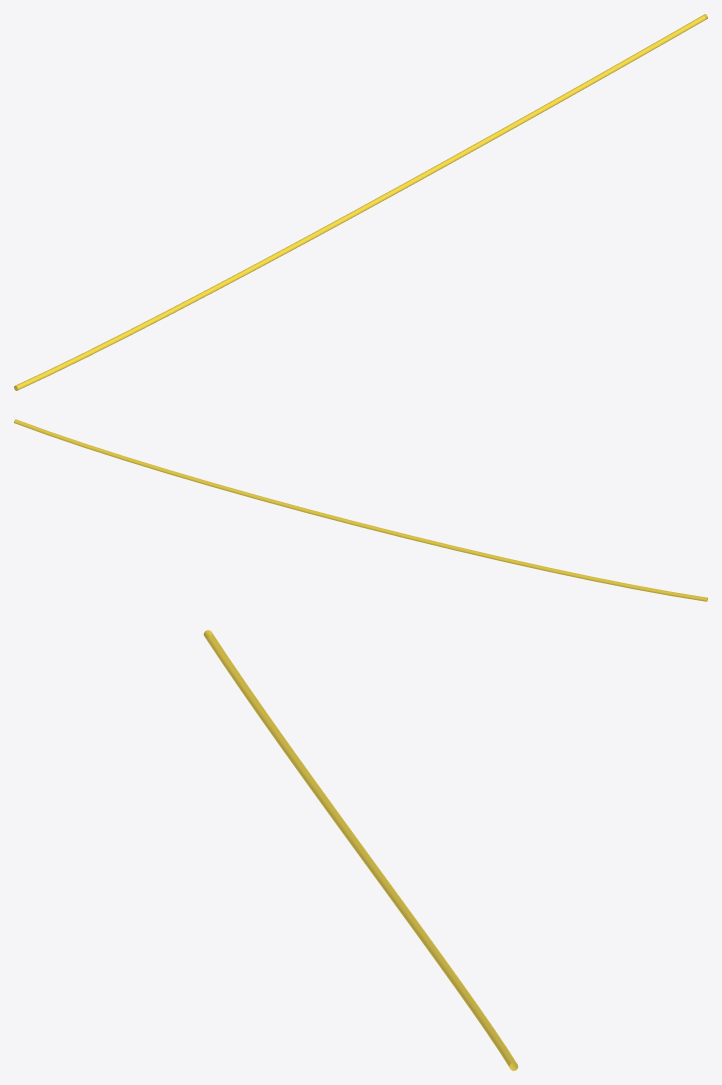
The model's file is Event_17758602_track_15.fbx.
3 renders of one model, top to bottom at view 1: azimuth 30°, elevation 25°; view 2: azimuth 150°, elevation 25°; view 3: azimuth 270°, elevation 25°, orthographic. The views are drawn at different scales.
Parts seen in each view (by area): view 1: Model; view 2: Model; view 3: Model.
Boxes of the visible parts, bbox=[...] form: Model: bbox=[14, 14, 707, 390]; Model: bbox=[14, 419, 707, 601]; Model: bbox=[203, 630, 518, 1070].
Size of the model in its own units: 6.58 by 0.8993 by 1.45.
